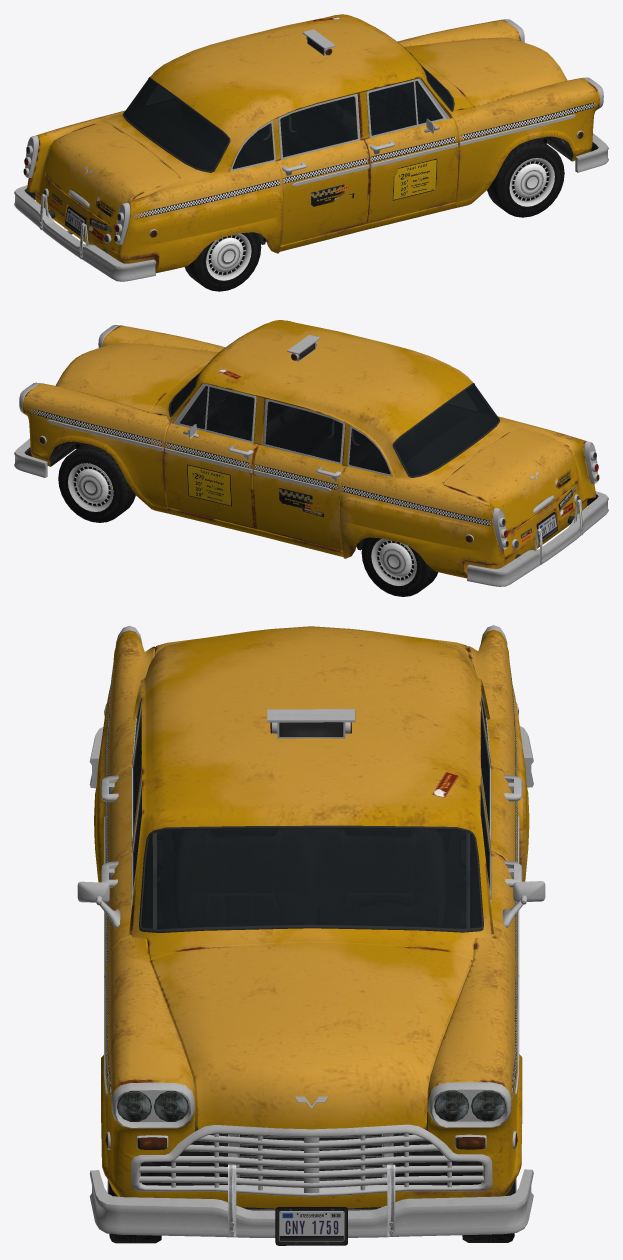
File: car-taxi.glb
The picture shows the model from 3 angles, top to bottom: view 1: azimuth 30°, elevation 25°; view 2: azimuth 150°, elevation 25°; view 3: azimuth 270°, elevation 25°; orthographic projection. The views are drawn at different scales.
Visible parts, largest first — view 1: Canyon75_Body_Canyon75_Bodymat_0, Canyon75_Interior_UCB_Interiors_2_0, Canyon75_Trunk_door_Canyon75_Bodymat_0, Canyon75_Hood_Canyon75_Bodymat_0, Canyon75_Bottom_UCB_BOTTOM_0, Canyon75_Rear_windows_UCB_Lights_and_Glass_Transperent_0, Canyon75_WheelStock_FR_RB1c_Tire_1k_0, Canyon75_Bodyglass_UCB_Lights_and_Glass_Transperent_0, Canyon75_Bumper_rear_UCB_BOTTOM_0, Canyon75_WheelStock_RR_RB1c_Tire_1k_0, Canyon75_Glass_Passenger_UCB_Lights_and_Glass_Transperent_0, Canyon75_Bumper_front_UCB_BOTTOM_0 (+1 smaller); view 2: Canyon75_Body_Canyon75_Bodymat_0, Canyon75_Interior_UCB_Interiors_2_0, Canyon75_Trunk_door_Canyon75_Bodymat_0, Canyon75_Hood_Canyon75_Bodymat_0, Canyon75_Bottom_UCB_BOTTOM_0, Canyon75_Rear_windows_UCB_Lights_and_Glass_Transperent_0, Canyon75_WheelStock_FL_RB1c_Tire_1k_0, Canyon75_Bodyglass_UCB_Lights_and_Glass_Transperent_0, Canyon75_Bumper_rear_UCB_BOTTOM_0, Canyon75_WheelStock_RL_RB1c_Tire_1k_0, Canyon75_Glass_Driver_UCB_Lights_and_Glass_Transperent_0, Canyon75_Bumper_front_UCB_BOTTOM_0 (+1 smaller); view 3: Canyon75_Body_Canyon75_Bodymat_0, Canyon75_Hood_Canyon75_Bodymat_0, Canyon75_Bottom_UCB_BOTTOM_0, Canyon75_Interior_UCB_Interiors_2_0, Canyon75_Windshield_UCB_Lights_and_Glass_Transperent_0, Canyon75_Bumper_front_UCB_BOTTOM_0, Canyon75_Headlights_UCB_Lights_and_Glass_0, Canyon75_Taxi_Beacon_UCB_BOTTOM_0, Canyon75_Numberplate_Front_Numberplates_Misk_U_0, Canyon75_Bodyglass_UCB_Lights_and_Glass_Transperent_0, Canyon75_Bumper_rear_UCB_BOTTOM_0.
Part boxes in pixels (x1,y1,x2,y2): Canyon75_Body_Canyon75_Bodymat_0: (26,14,599,272); Canyon75_Interior_UCB_Interiors_2_0: (124,71,452,170); Canyon75_Trunk_door_Canyon75_Bodymat_0: (45,122,179,226); Canyon75_Hood_Canyon75_Bodymat_0: (404,37,567,107); Canyon75_Bottom_UCB_BOTTOM_0: (23,19,603,244); Canyon75_Rear_windows_UCB_Lights_and_Glass_Transperent_0: (124,78,273,171); Canyon75_WheelStock_FR_RB1c_Tire_1k_0: (487,138,564,217); Canyon75_Bodyglass_UCB_Lights_and_Glass_Transperent_0: (280,81,443,157); Canyon75_Bumper_rear_UCB_BOTTOM_0: (14,185,155,281); Canyon75_WheelStock_RR_RB1c_Tire_1k_0: (184,232,261,291); Canyon75_Glass_Passenger_UCB_Lights_and_Glass_Transperent_0: (368,81,416,135); Canyon75_Bumper_front_UCB_BOTTOM_0: (575,133,608,172); Canyon75_Body_Canyon75_Bodymat_0: (23,320,596,578); Canyon75_Interior_UCB_Interiors_2_0: (170,376,498,475); Canyon75_Trunk_door_Canyon75_Bodymat_0: (443,428,577,531); Canyon75_Hood_Canyon75_Bodymat_0: (55,343,218,412); Canyon75_Bottom_UCB_BOTTOM_0: (19,325,599,549); Canyon75_Rear_windows_UCB_Lights_and_Glass_Transperent_0: (349,384,498,476); Canyon75_WheelStock_FL_RB1c_Tire_1k_0: (58,444,135,522); Canyon75_Bodyglass_UCB_Lights_and_Glass_Transperent_0: (179,386,342,462); Canyon75_Bumper_rear_UCB_BOTTOM_0: (467,491,608,586); Canyon75_WheelStock_RL_RB1c_Tire_1k_0: (361,537,438,596); Canyon75_Glass_Driver_UCB_Lights_and_Glass_Transperent_0: (206,387,254,440); Canyon75_Bumper_front_UCB_BOTTOM_0: (14,438,47,477); Canyon75_Body_Canyon75_Bodymat_0: (94,626,529,1208); Canyon75_Hood_Canyon75_Bodymat_0: (150,942,472,1129); Canyon75_Bottom_UCB_BOTTOM_0: (77,625,545,1210); Canyon75_Interior_UCB_Interiors_2_0: (134,720,488,928); Canyon75_Windshield_UCB_Lights_and_Glass_Transperent_0: (141,828,481,929); Canyon75_Bumper_front_UCB_BOTTOM_0: (89,1164,533,1245); Canyon75_Headlights_UCB_Lights_and_Glass_0: (117,1090,505,1121); Canyon75_Taxi_Beacon_UCB_BOTTOM_0: (267,709,355,738); Canyon75_Numberplate_Front_Numberplates_Misk_U_0: (279,1211,344,1241); Canyon75_Bodyglass_UCB_Lights_and_Glass_Transperent_0: (133,708,490,898); Canyon75_Bumper_rear_UCB_BOTTOM_0: (89,726,533,788).
Size of the model in its own units: 5.31 by 1.83 by 2.13.
Materials: 8 (8 with a texture image).
